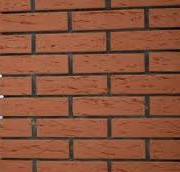brick: (35, 30, 107, 54), (1, 53, 71, 77), (72, 53, 148, 74), (35, 117, 107, 139), (109, 117, 180, 139), (73, 139, 146, 160), (71, 96, 147, 116), (1, 96, 70, 117), (108, 31, 180, 51), (110, 76, 180, 94), (1, 140, 71, 158), (35, 77, 109, 94), (72, 11, 145, 28), (1, 13, 67, 30), (35, 160, 108, 171), (110, 161, 180, 171), (1, 33, 33, 54), (148, 140, 180, 160), (147, 9, 180, 28), (1, 77, 34, 96), (149, 53, 180, 72), (149, 96, 180, 115), (34, 1, 105, 9), (1, 118, 32, 136), (1, 1, 31, 13), (1, 161, 34, 171), (110, 1, 179, 5)
